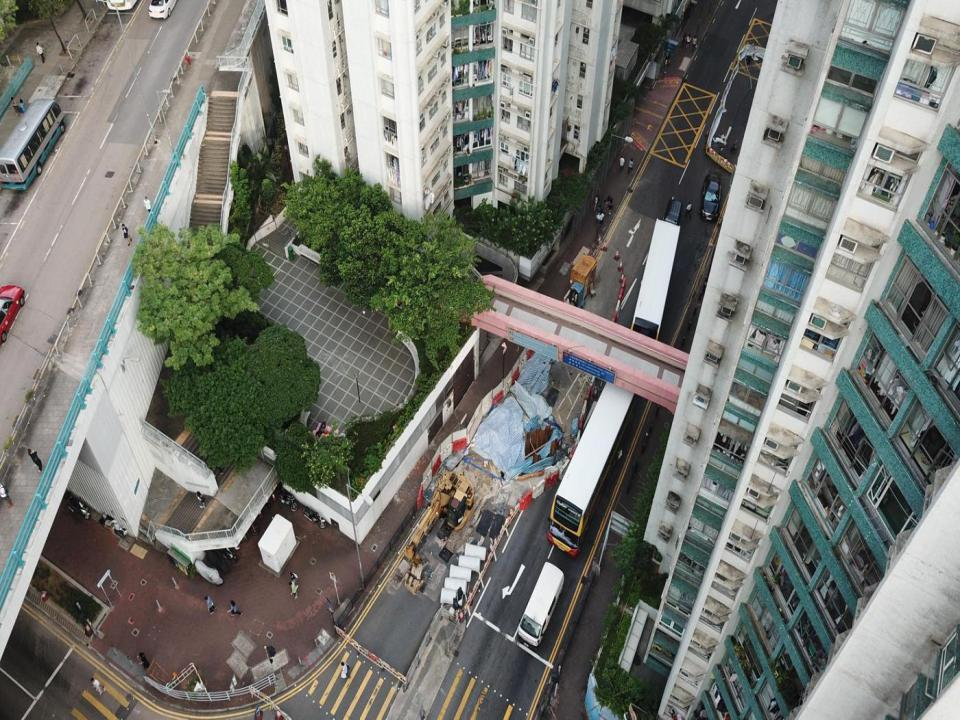bus: (547, 359, 639, 557), (629, 217, 680, 351), (0, 99, 67, 191)
car: (0, 286, 25, 344), (700, 176, 722, 221), (148, 0, 178, 19)
van: (518, 561, 564, 649), (661, 199, 681, 240)
